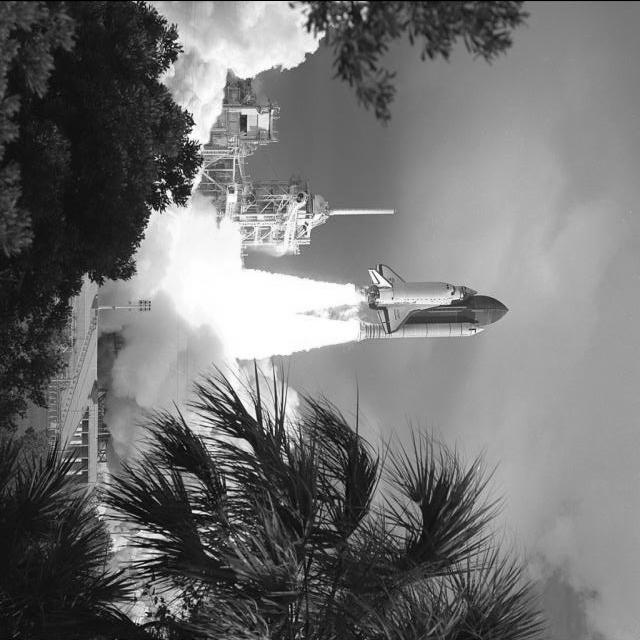missile: (354, 317, 486, 346), (323, 205, 399, 217)
